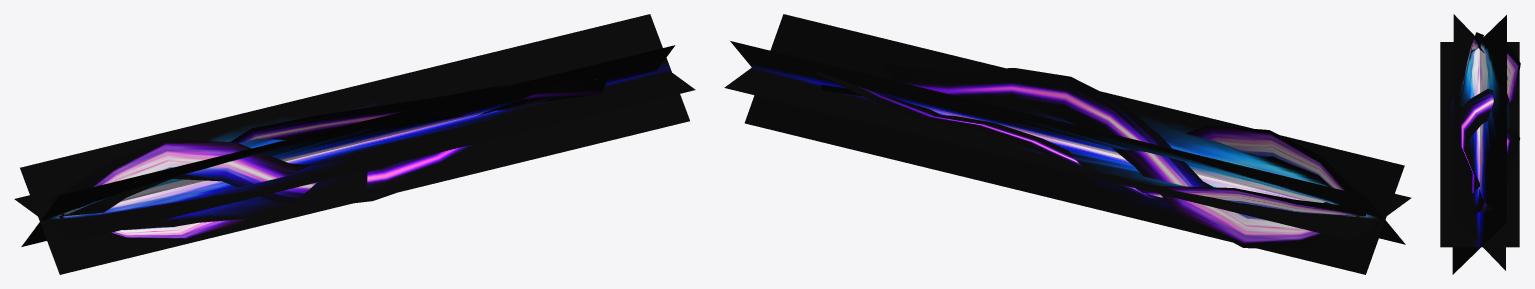
Rendered from fx_fbx_skill_103_bow_powerattack_1.FBX.
3 views of the same model, side by side, from view 1: azimuth 30°, elevation 25°; view 2: azimuth 150°, elevation 25°; view 3: azimuth 270°, elevation 25° (orthographic). The views are drawn at different scales.
Visible parts, largest first — view 1: Plane002; view 2: Plane002; view 3: Plane002.
Boxes of the visible parts, bbox=[...] form: Plane002: bbox=[14, 14, 695, 274]; Plane002: bbox=[724, 14, 1411, 274]; Plane002: bbox=[1440, 14, 1520, 274].
Size of the model in its own units: 179 by 29.33 by 31.07.
